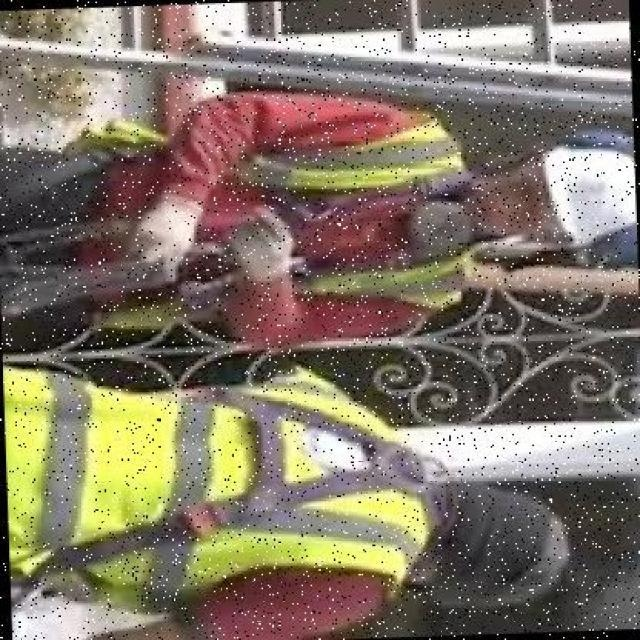Arnes_seguridad: (2, 350, 430, 612)
